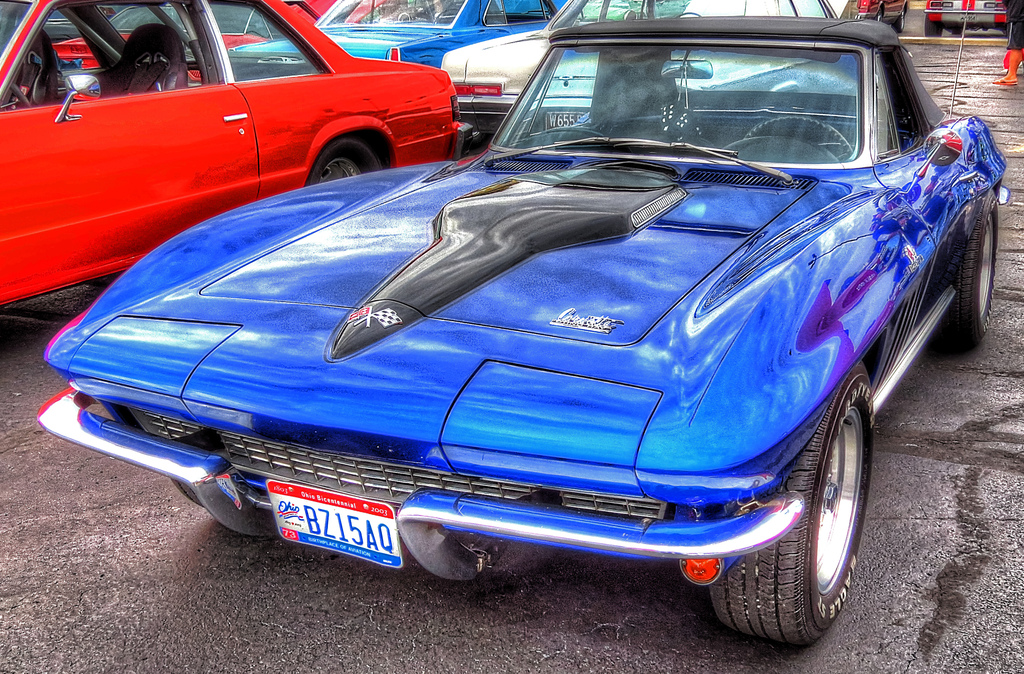Car: (0, 0, 1007, 647)
